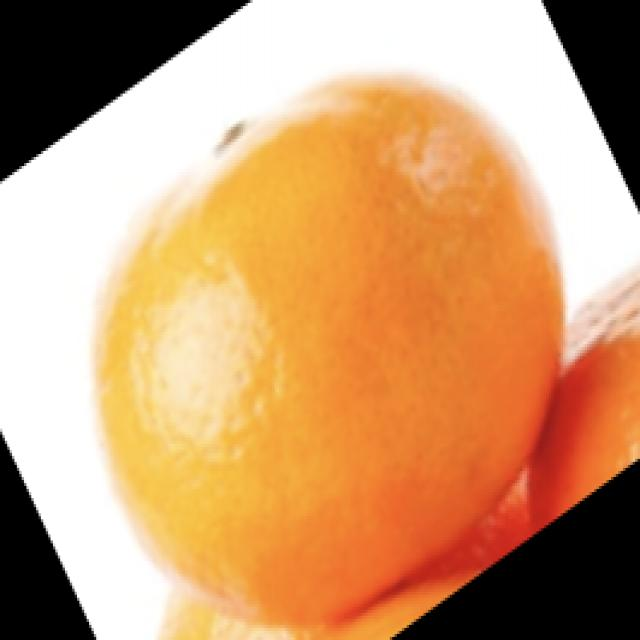fresh: (82, 59, 580, 636)
